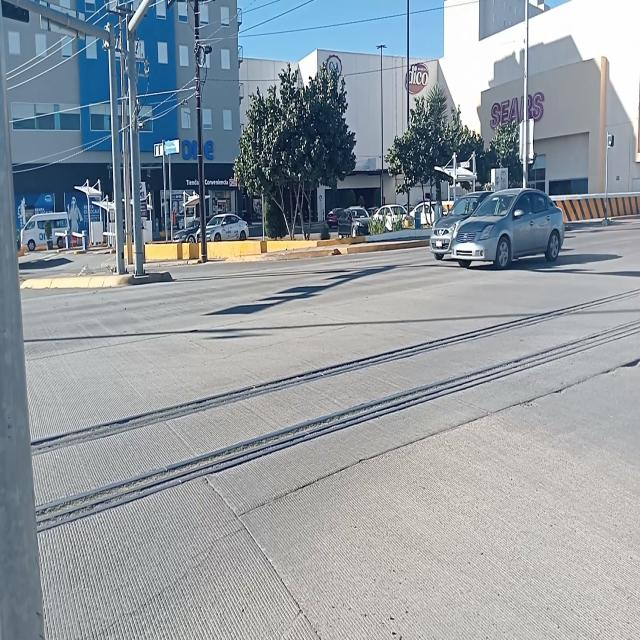Auto: (450, 179, 566, 274)
